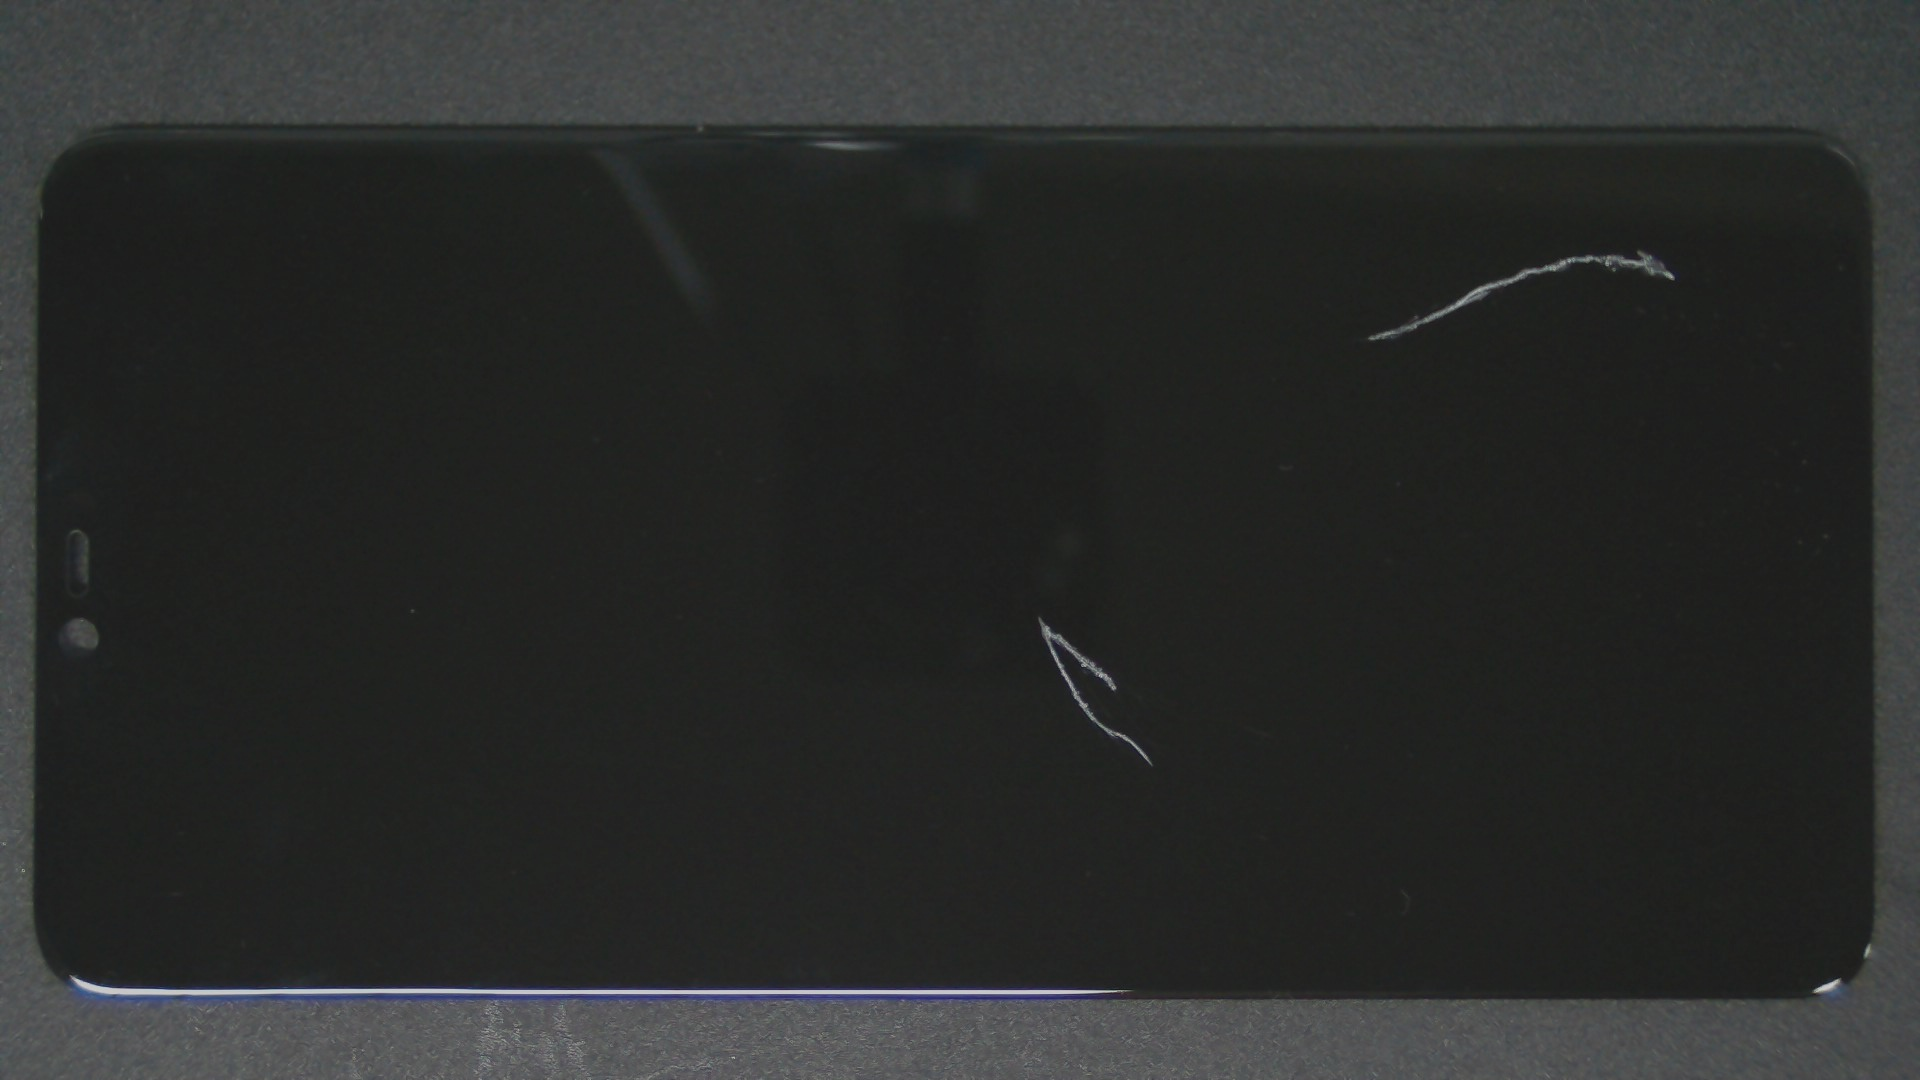oil: (518, 305, 1556, 926), (819, 124, 1920, 375)
